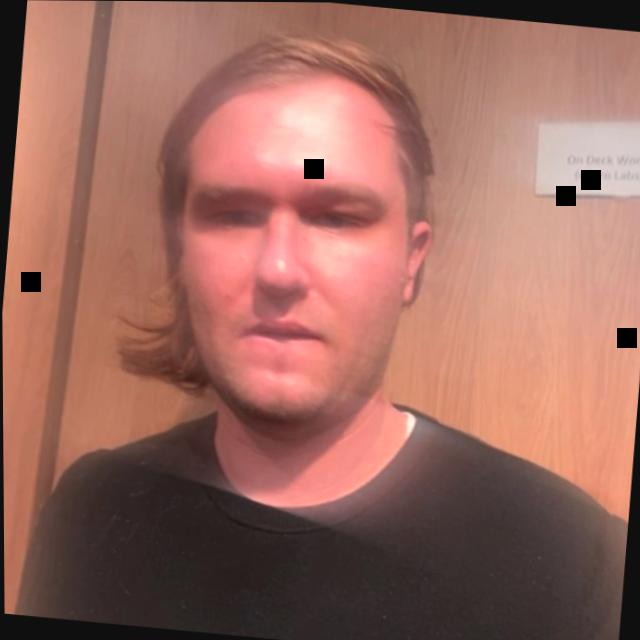NO-Mask: (79, 0, 482, 535)
